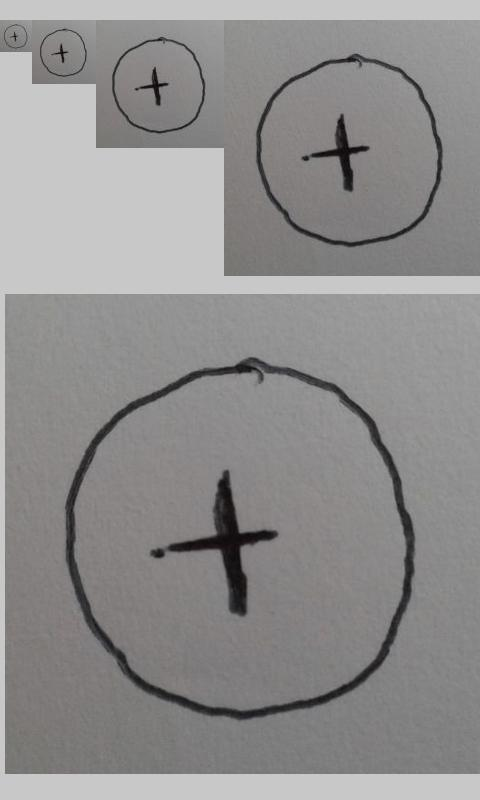button: (63, 355, 417, 723), (255, 53, 443, 247), (111, 35, 207, 134), (39, 28, 87, 77), (3, 24, 28, 49)
